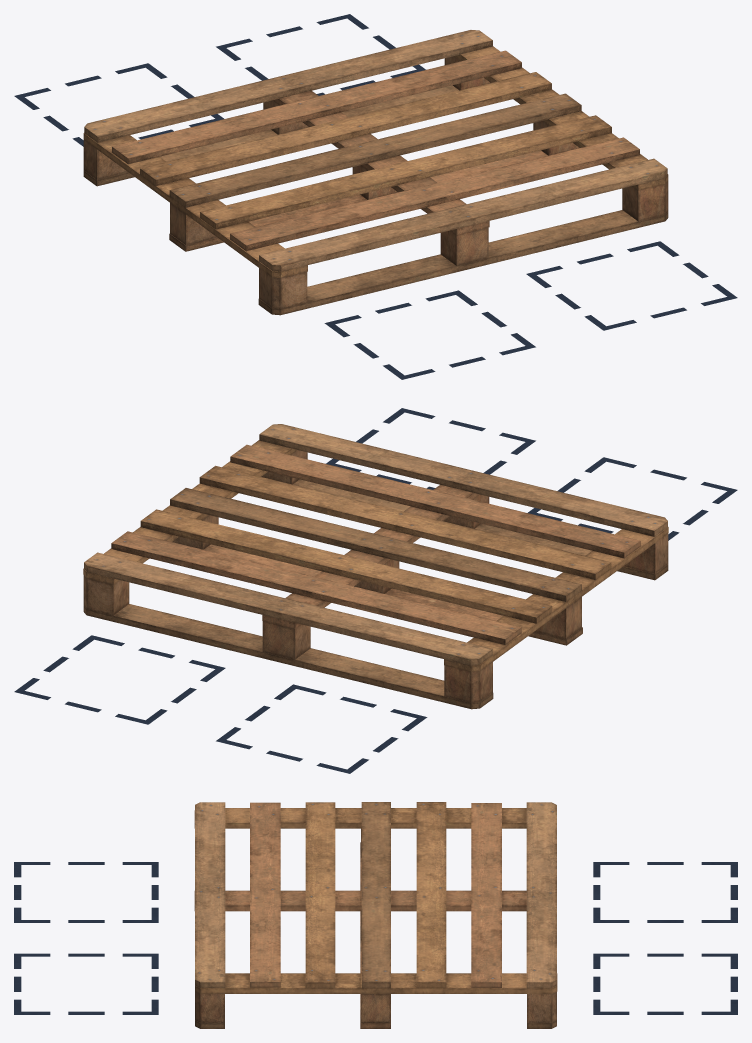
Rendered from pallet.fbx.
3 renders of one model, top to bottom at view 1: azimuth 30°, elevation 25°; view 2: azimuth 150°, elevation 25°; view 3: azimuth 270°, elevation 25°, orthographic. The views are drawn at different scales.
Parts seen in each view (by area): view 1: pallet, zones; view 2: pallet, zones; view 3: pallet, zones.
Boxes of the visible parts, x1,y1,x2,y2 form: pallet: (83, 30, 668, 315); zones: (14, 14, 737, 379); pallet: (83, 424, 668, 709); zones: (14, 408, 737, 773); pallet: (194, 802, 557, 1028); zones: (14, 862, 737, 1014).
Bounding box in the file's own units: 148 × 17.63 × 250.
2 materials, 2 textured.
